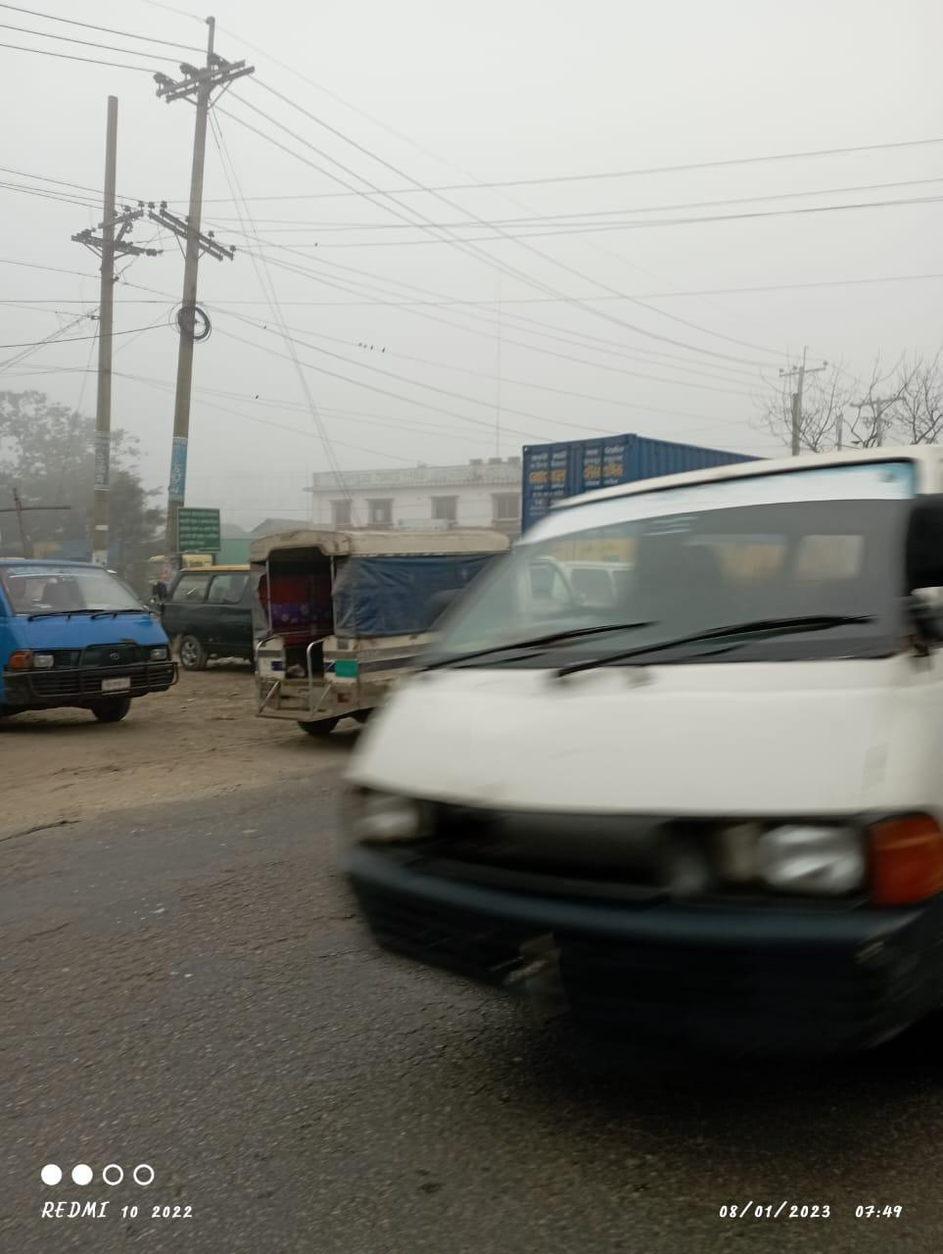Car: (343, 438, 934, 1054), (5, 544, 182, 728), (239, 509, 372, 728)
